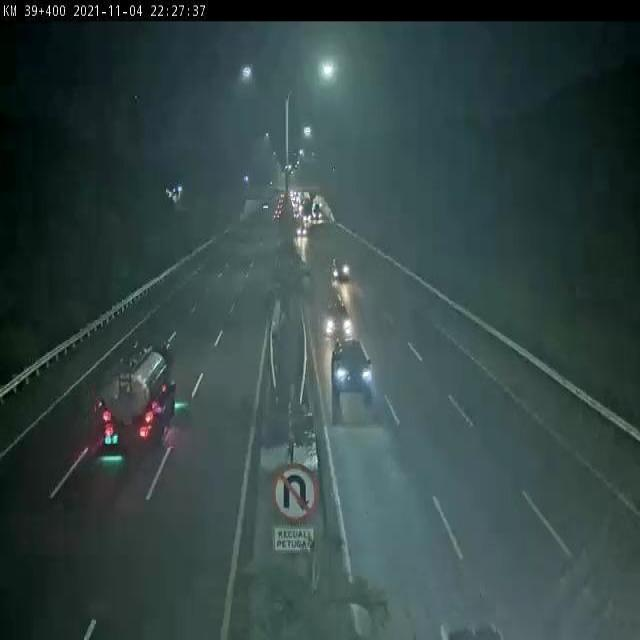ARABA: (330, 340, 374, 396), (322, 303, 350, 336)
TIR: (96, 344, 169, 445)
